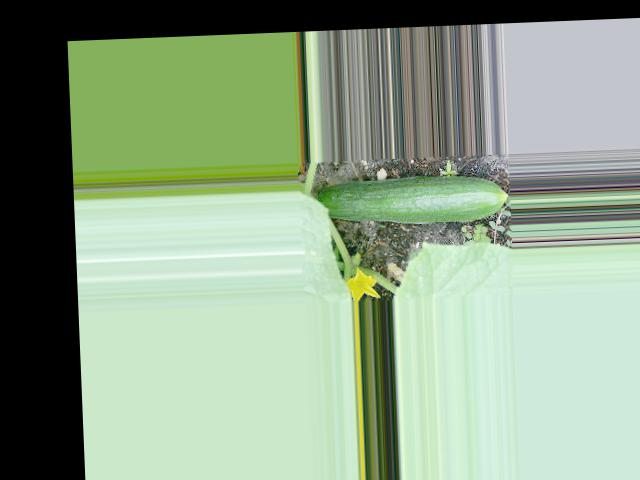cucumber: (316, 172, 509, 227)
